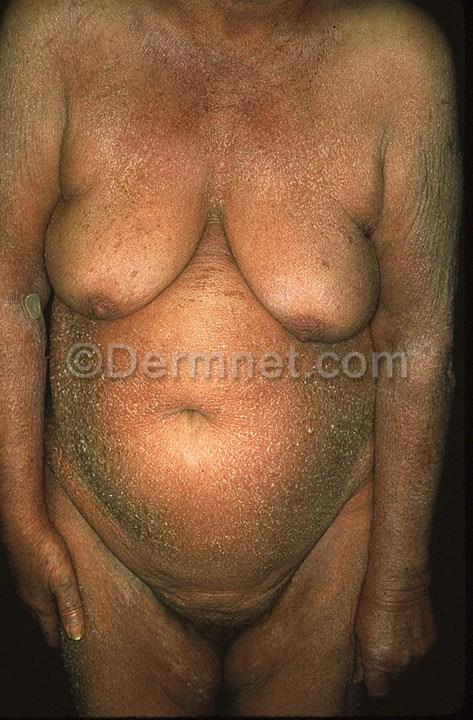Eczema: (162, 33, 327, 170), (40, 24, 160, 175), (55, 316, 177, 460), (332, 29, 457, 164), (282, 368, 395, 491), (201, 471, 320, 580), (86, 471, 199, 571), (396, 168, 470, 296), (390, 309, 435, 411)
